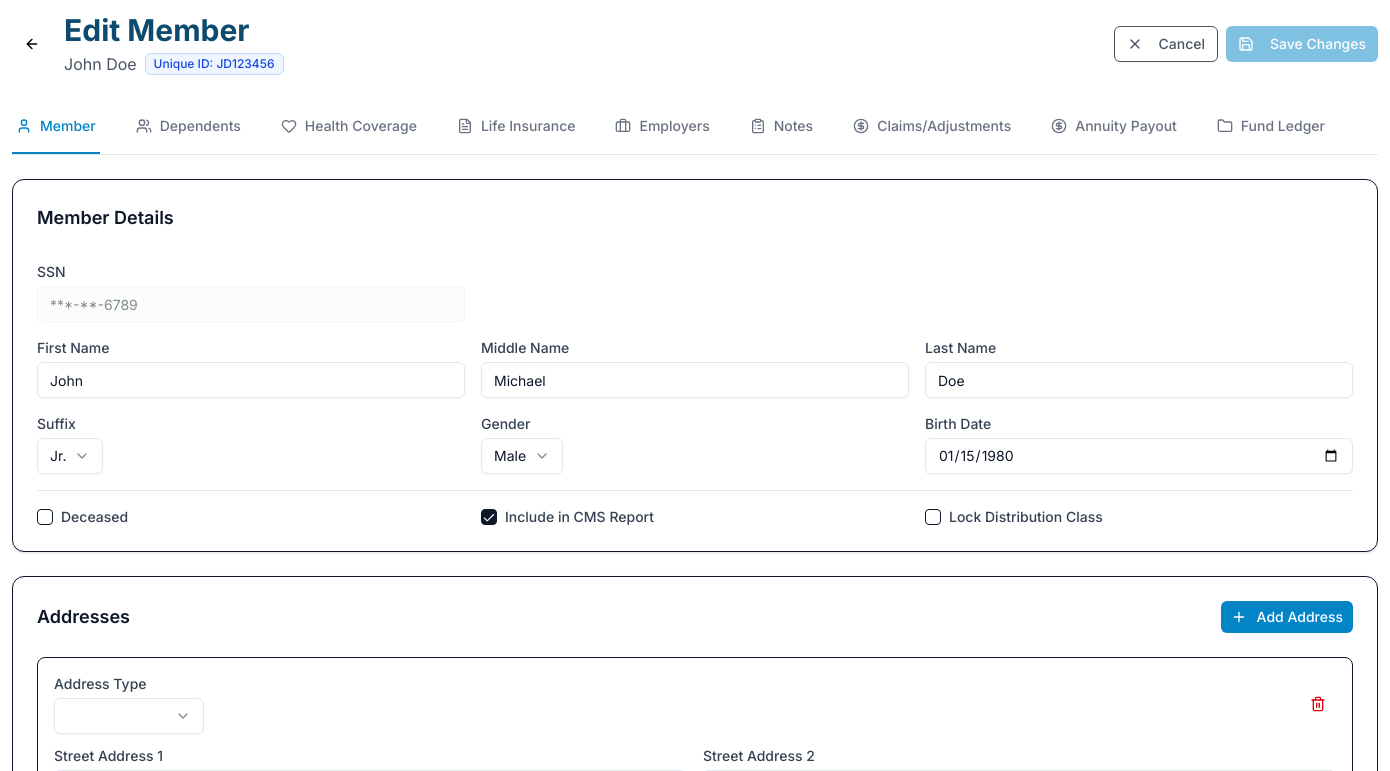
Test case: MemberDetailPage › Save Functionality › should show success message after successful save
// Make a change and save
Replace the text in the field showing "John" with "Johnny" at (251, 380), box left=37, top=362, right=465, bottom=398
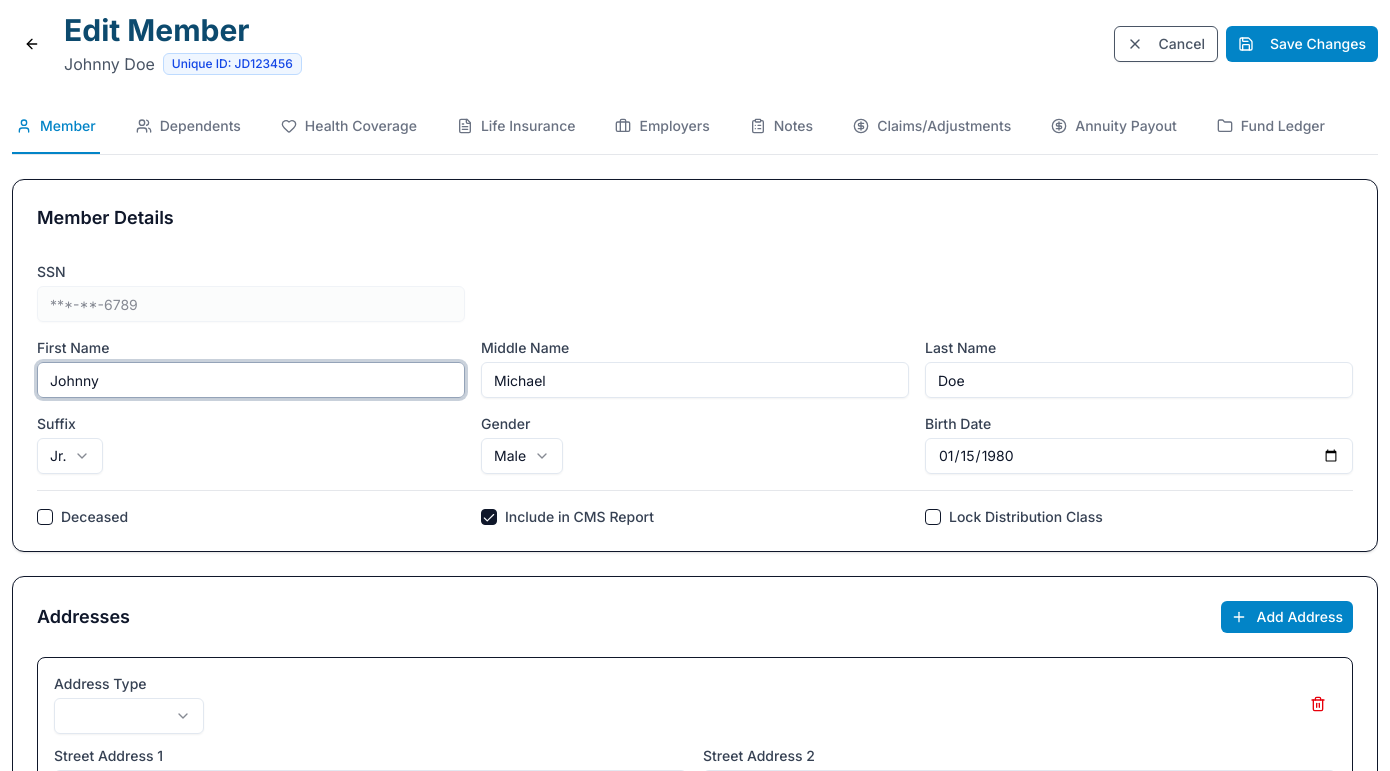
Check: the button "Save Changes" is enabled
Click the button "Save Changes".
click(1302, 44)  # box left=1226, top=26, right=1378, bottom=62
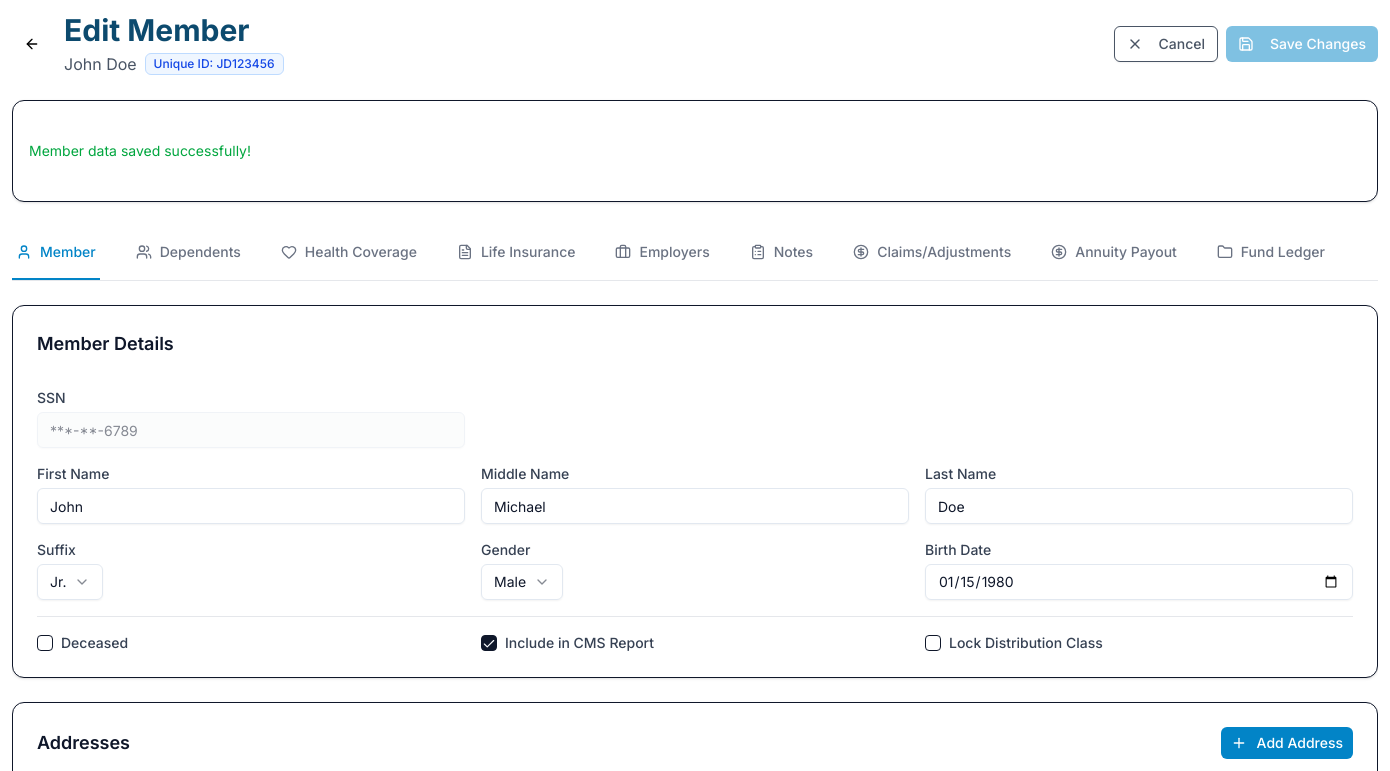
Check: the text "Member data saved successfully!" is shown, box left=29, top=142, right=251, bottom=159
